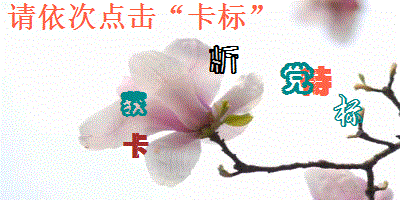text: (279, 60, 314, 97), (331, 93, 364, 129), (299, 65, 334, 98), (208, 44, 240, 76), (119, 90, 148, 118), (122, 132, 150, 159)
